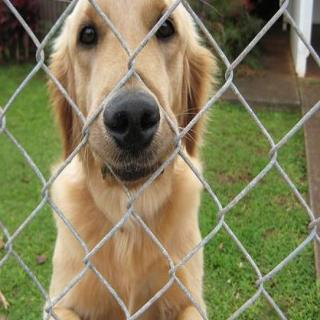dog: (41, 0, 240, 207)
nose: (104, 92, 161, 150)
